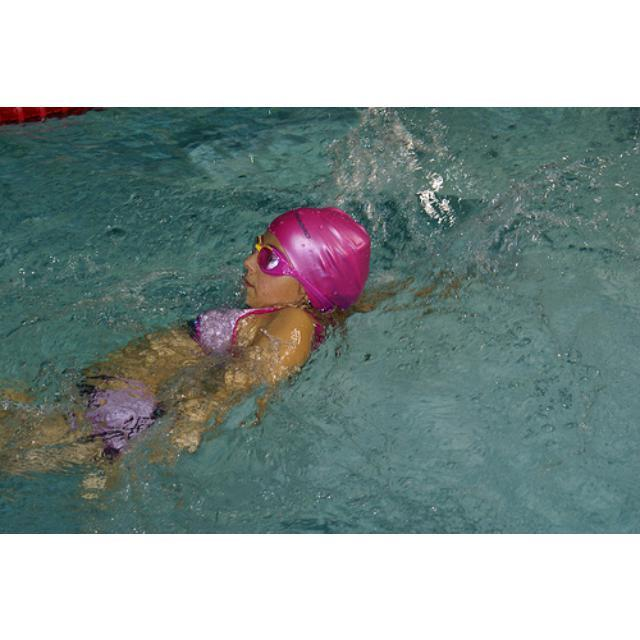human: (5, 204, 383, 486)
